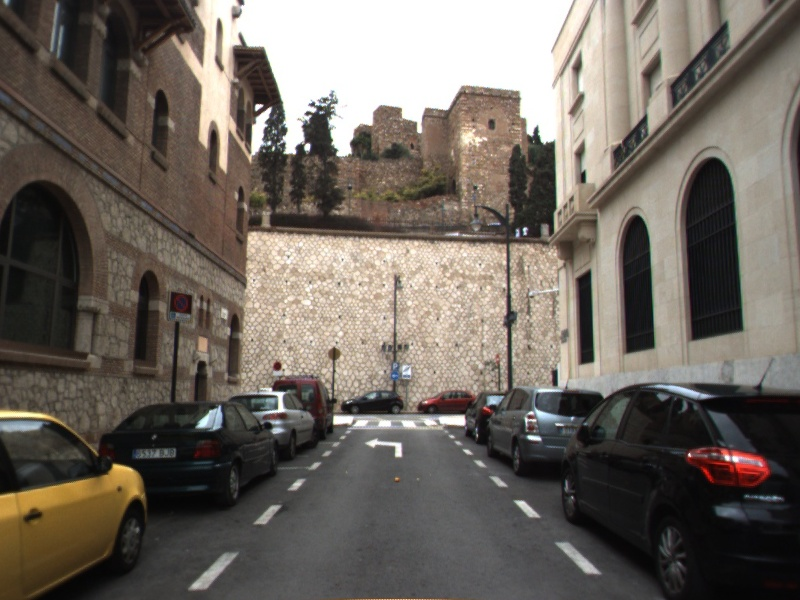LEFT: (363, 436, 404, 459)
